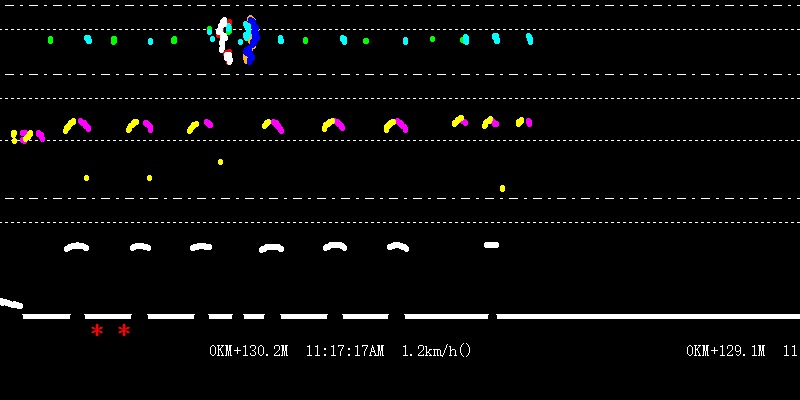J: (214, 4, 258, 64)
face_down: (523, 24, 539, 50), (488, 28, 501, 48), (337, 23, 348, 45)
star: (116, 320, 132, 338), (90, 323, 103, 340)
y_p: (58, 107, 424, 265)
